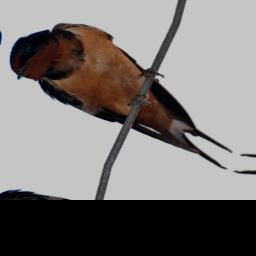Swallow: (0, 6, 256, 172)
